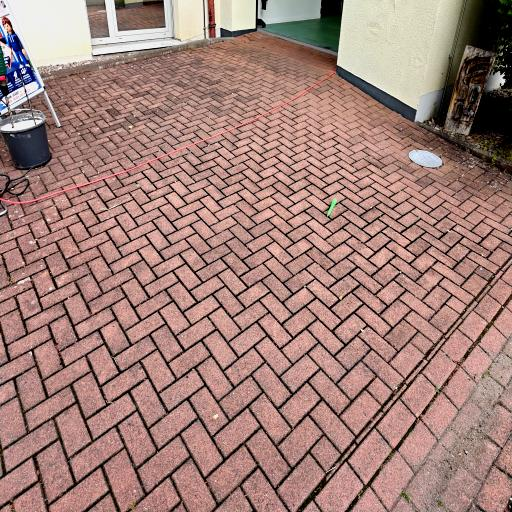Probe-Detection: (327, 198, 337, 217)
